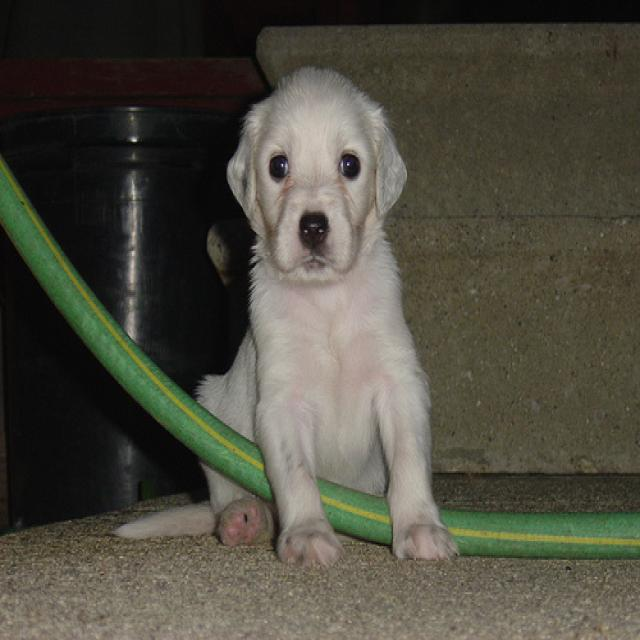dog: (224, 65, 406, 276)
